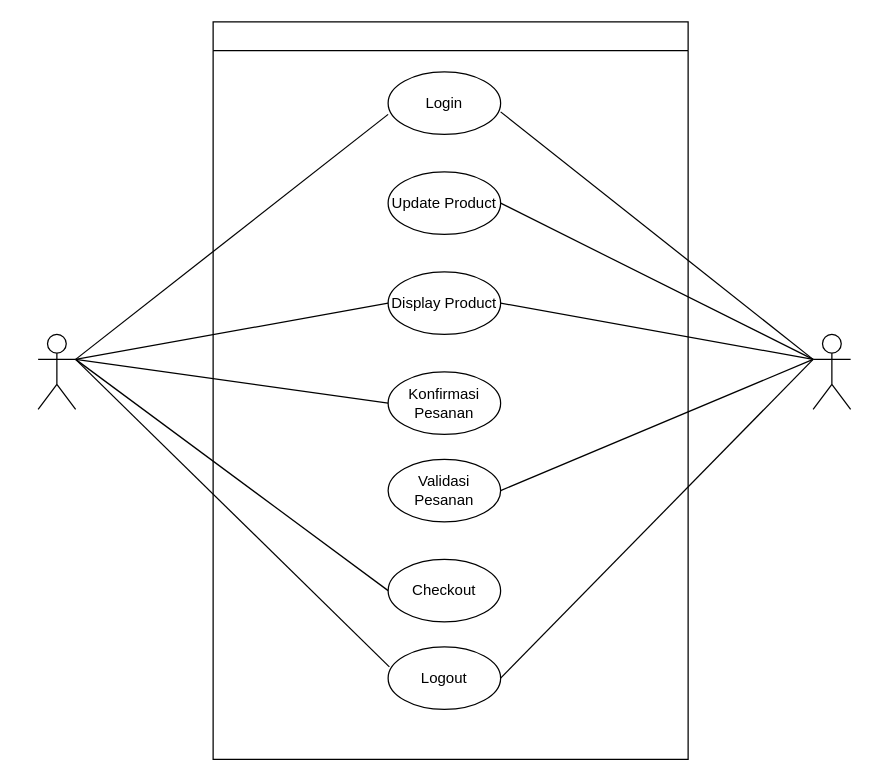
The diagram is 875 pixels wide and 781 high, and some of its shapes have lost their labels. The shapes that lost their labels are listed below. From the top down, each one's box as (x1, y1, x2, y2) in pixels, then its label:
(37, 333, 76, 409): Pelanggan
(212, 21, 688, 759): Penjualan Sayuran Hydroponik Berbasis Mobile (V_Mart)
(812, 333, 851, 409): Admin
